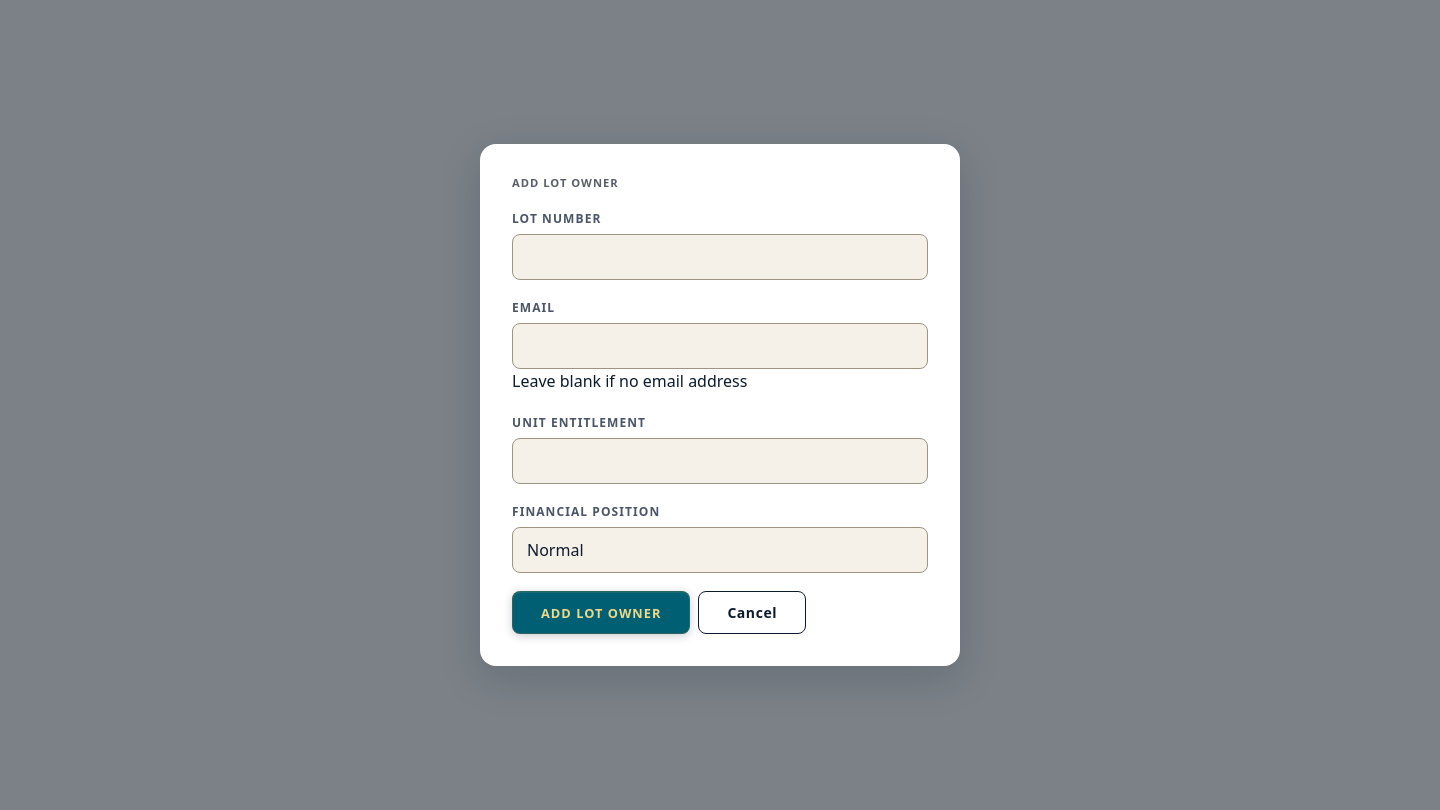
Scenario: LotOwnerForm - Add mode › shows validation error for malformed email format
The width and height of the screenshot is (1440, 810).
Type "5E" into the field labelled "Lot Number" at {"x": 720, "y": 257}, box [512, 234, 928, 280]
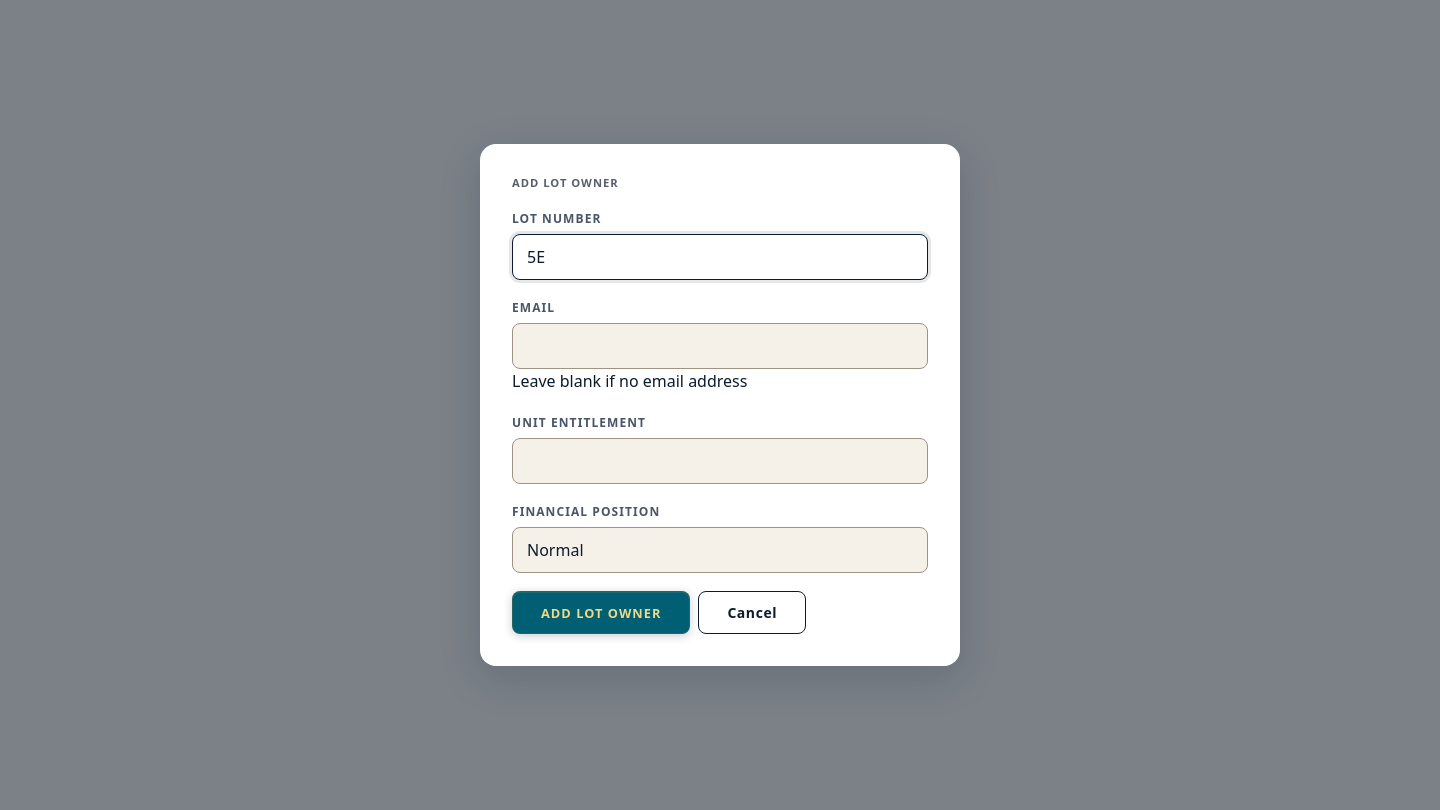
Type "user@nodot" into the field labelled "Email" at {"x": 720, "y": 346}, box [512, 323, 928, 369]
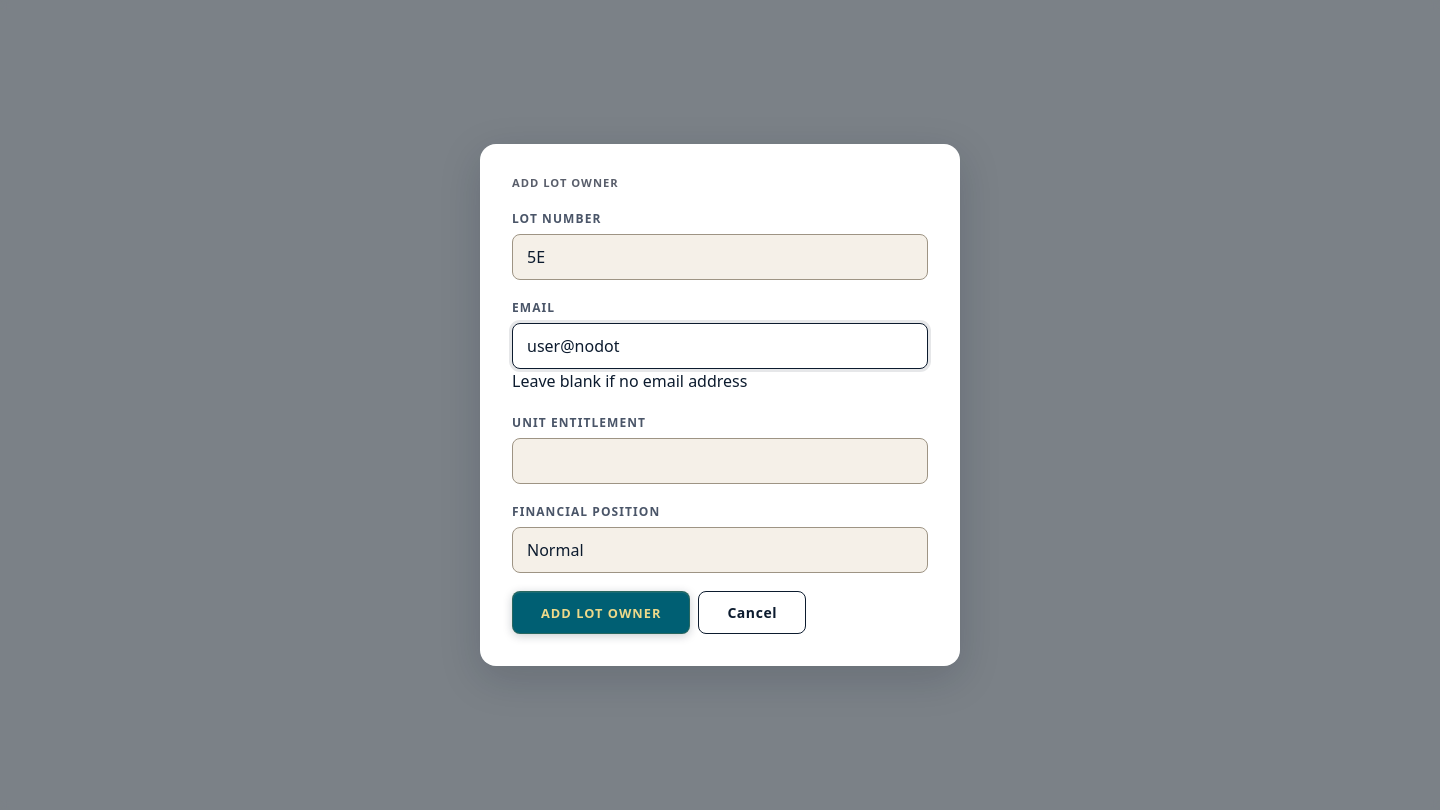
Type "100" into the number field labelled "Unit Entitlement" at {"x": 720, "y": 461}, box [512, 438, 928, 484]
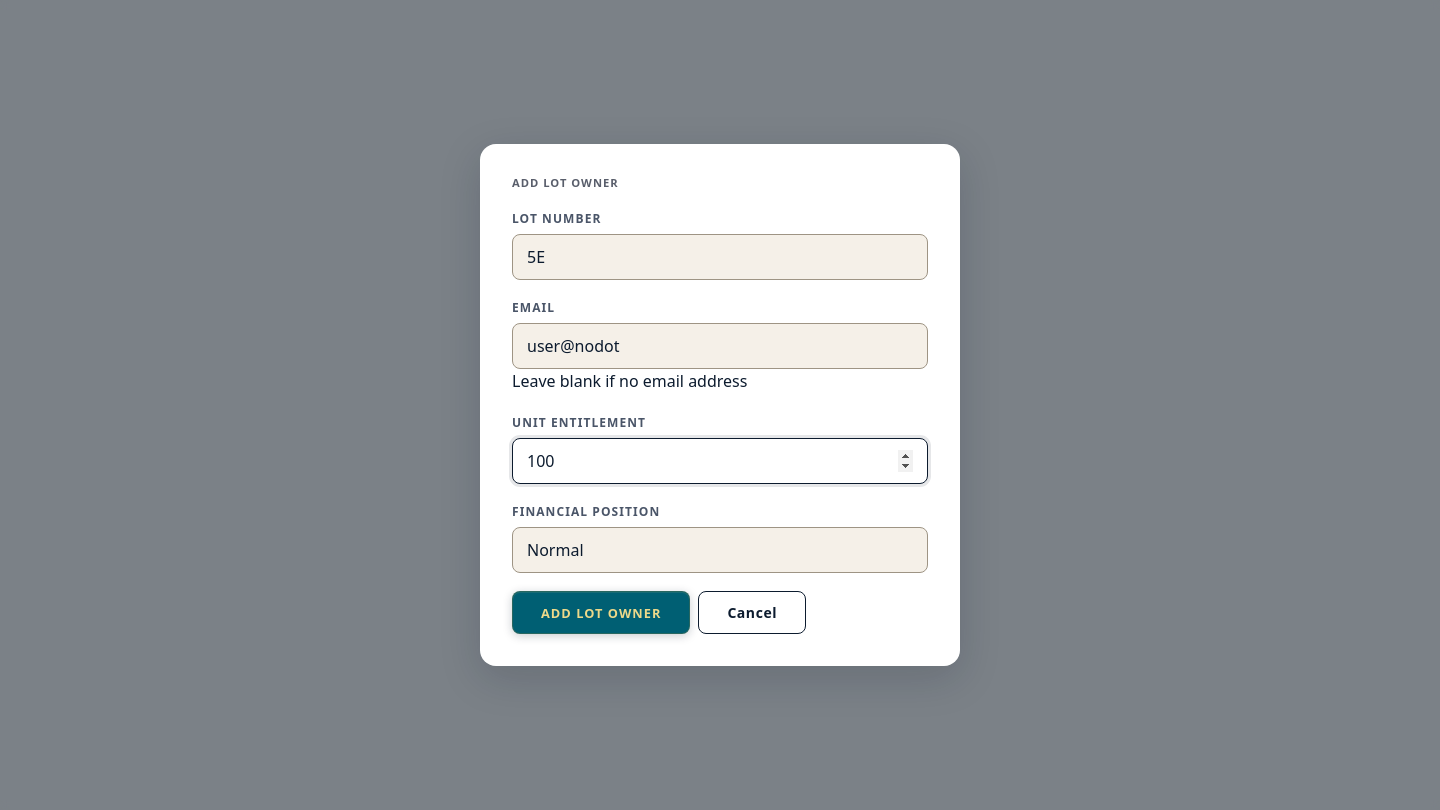
Click the button "Add Lot Owner" at {"x": 601, "y": 613}, box [512, 591, 690, 634]
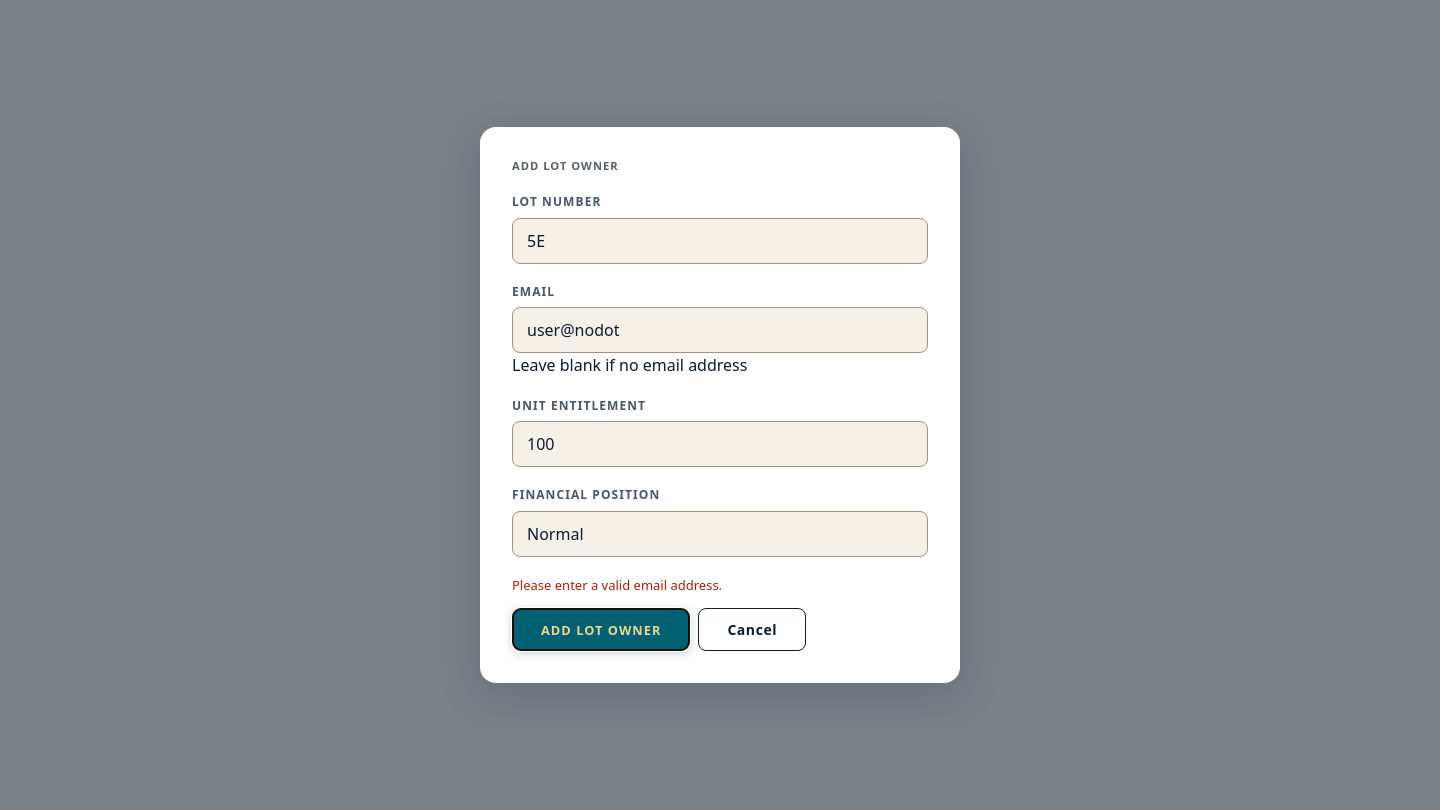
Now the text "Please enter a valid email address." is shown, box [512, 576, 722, 594]
